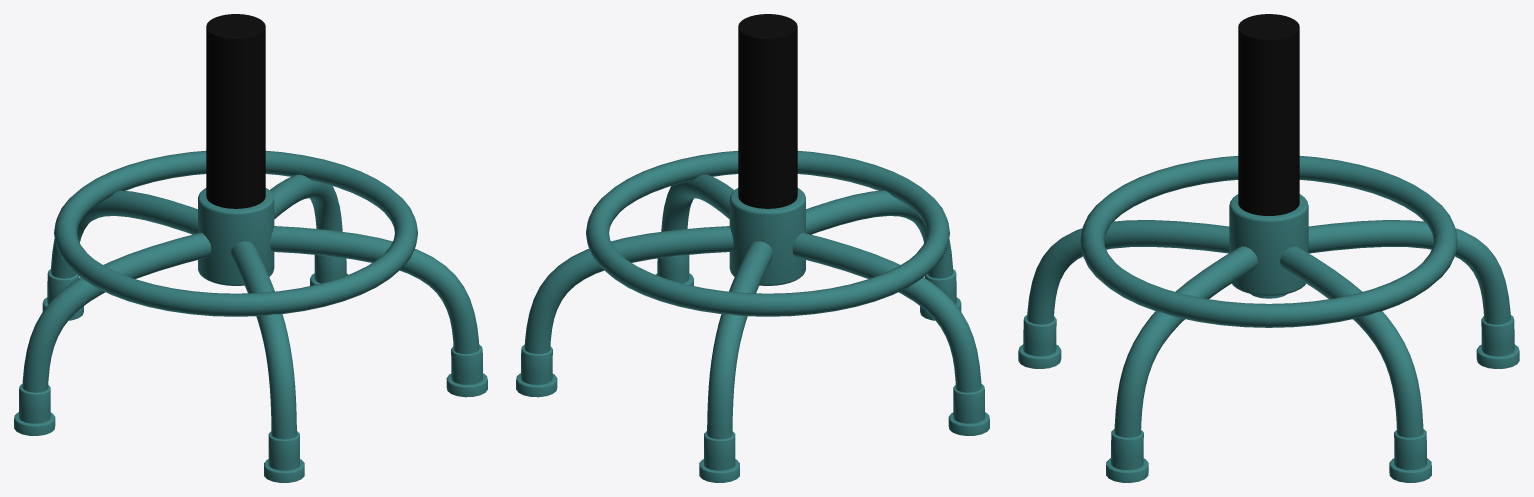
Rendered from S_ChairBottom.fbx.
The picture shows the model from 3 angles, left to right: view 1: azimuth 30°, elevation 25°; view 2: azimuth 150°, elevation 25°; view 3: azimuth 270°, elevation 25°; orthographic projection. The views are drawn at different scales.
Parts seen in each view (by area): view 1: NurbsPath, Torus, Cylinder.002, Cylinder.003; view 2: NurbsPath, Torus, Cylinder.002, Cylinder.003; view 3: NurbsPath, Torus, Cylinder.002, Cylinder.003.
Boxes of the visible parts, box(x1,y1,x2,y2) form: NurbsPath: box(14, 174, 487, 482); Torus: box(54, 150, 417, 316); Cylinder.002: box(206, 14, 265, 208); Cylinder.003: box(198, 188, 274, 285); NurbsPath: box(516, 174, 989, 482); Torus: box(586, 150, 949, 316); Cylinder.002: box(738, 14, 797, 208); Cylinder.003: box(729, 188, 805, 285); NurbsPath: box(1018, 220, 1519, 482); Torus: box(1080, 156, 1457, 327); Cylinder.002: box(1238, 14, 1299, 215); Cylinder.003: box(1229, 194, 1308, 295).
Bounding box in the file's own units: 23.46 × 19.72 × 24.57.
